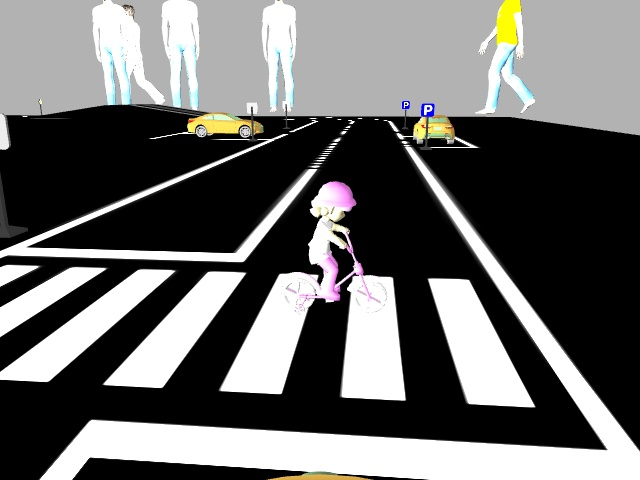Parking: (417, 101, 436, 115), (399, 97, 411, 111)
Pedestrian: (276, 179, 392, 312)
